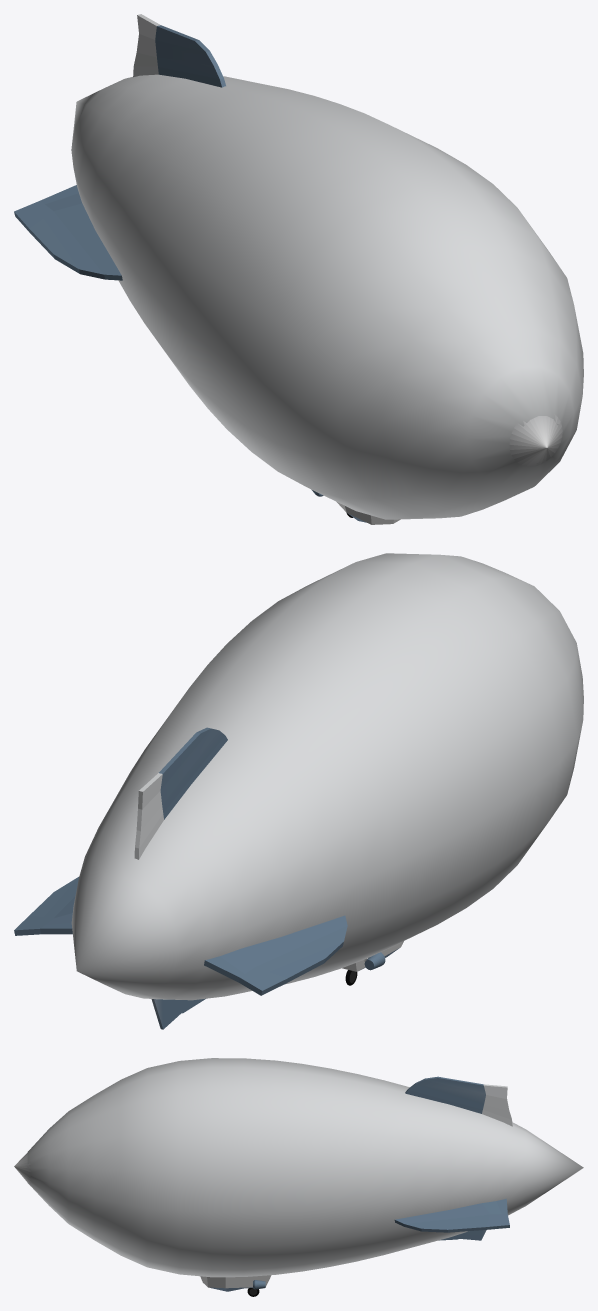
File: Airship-MateusBrito.fbx
The picture shows the model from 3 angles, top to bottom: view 1: azimuth 30°, elevation 25°; view 2: azimuth 150°, elevation 25°; view 3: azimuth 270°, elevation 25°; orthographic projection. The views are drawn at different scales.
Parts seen in each view (by area): view 1: Balao; view 2: Balao; view 3: Balao.
Boxes of the visible parts, bbox=[...] form: Balao: bbox=[14, 14, 583, 524]; Balao: bbox=[14, 553, 583, 1029]; Balao: bbox=[14, 1058, 583, 1296].
Size of the model in its own units: 4452 by 5318 by 11984.
